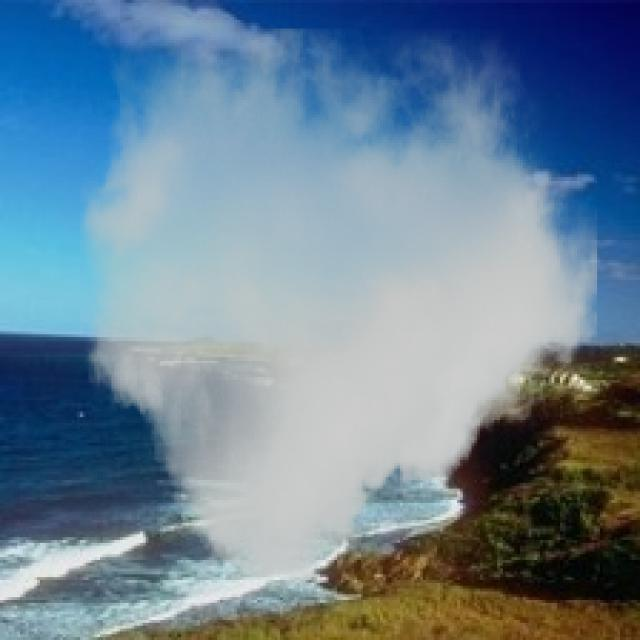smoke: (80, 29, 597, 580)
